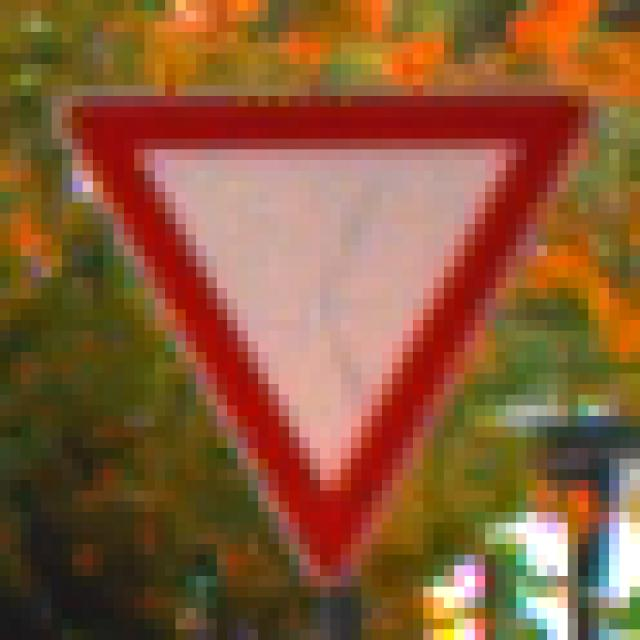Give Way: (53, 65, 590, 588)
